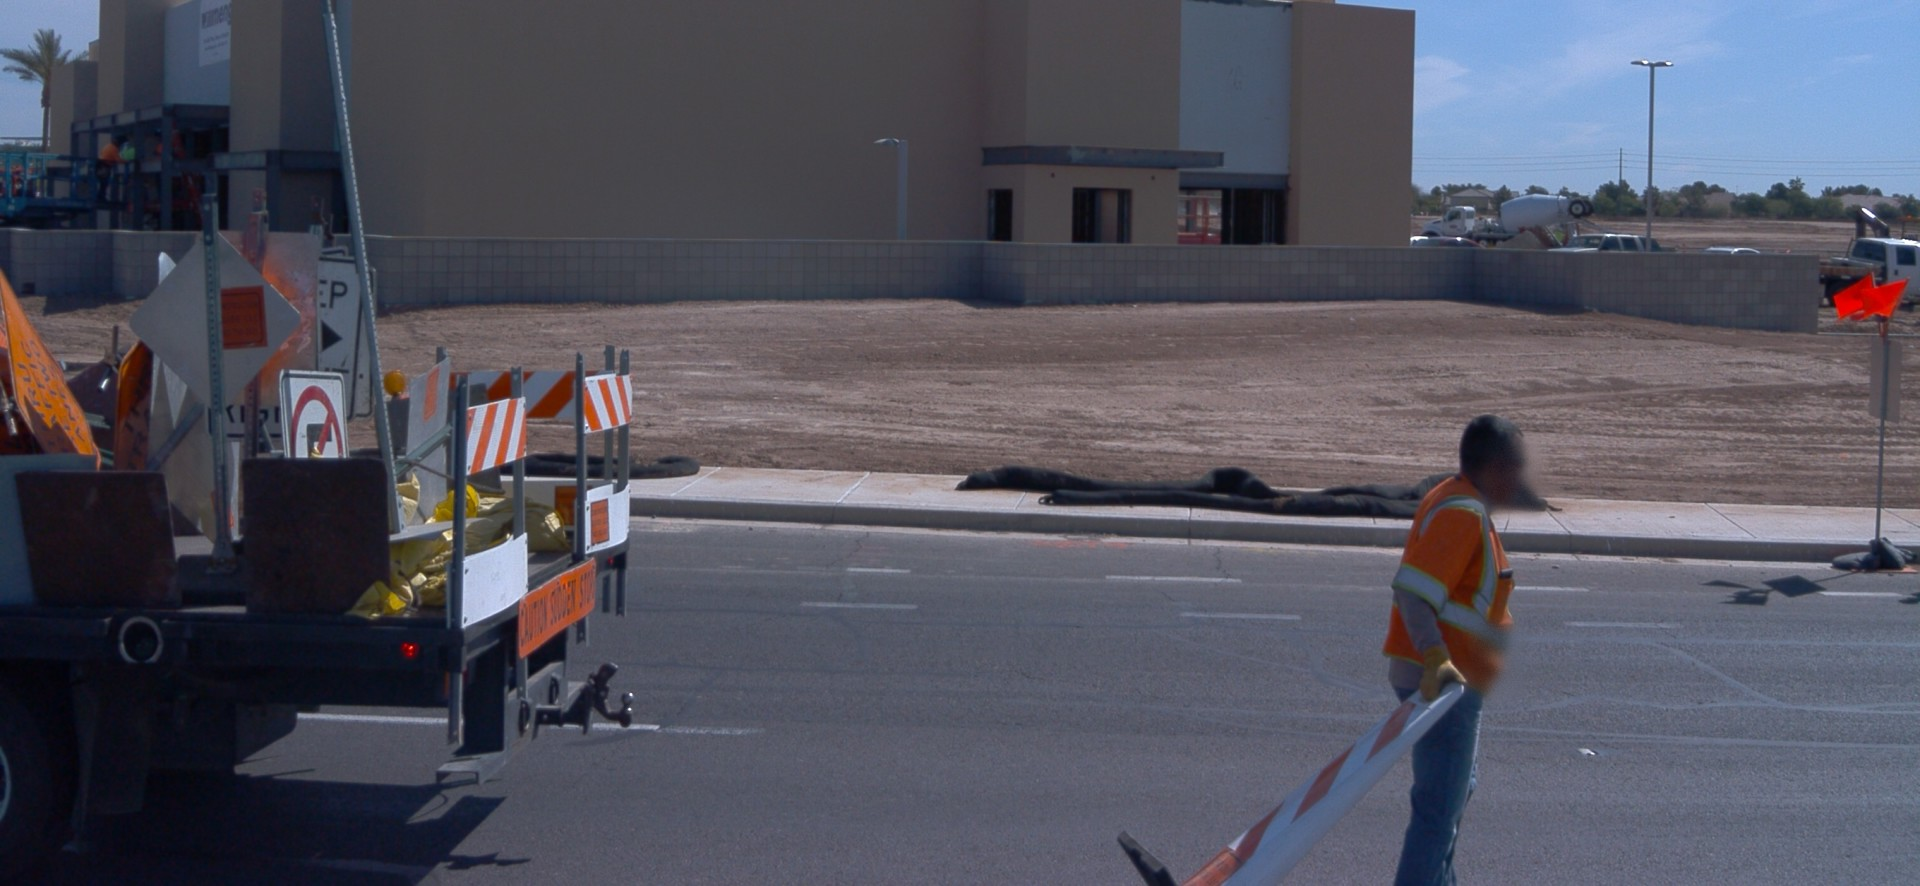TYPE_PEDESTRIAN: (1374, 414, 1533, 886), (1554, 222, 1567, 246)
TYPE_VEHICLE: (0, 250, 666, 886), (1434, 187, 1639, 247), (1811, 240, 1920, 307), (1853, 201, 1920, 253), (1546, 234, 1658, 255), (1520, 220, 1579, 251), (1424, 234, 1492, 255), (1702, 245, 1762, 256), (1408, 233, 1428, 246)
